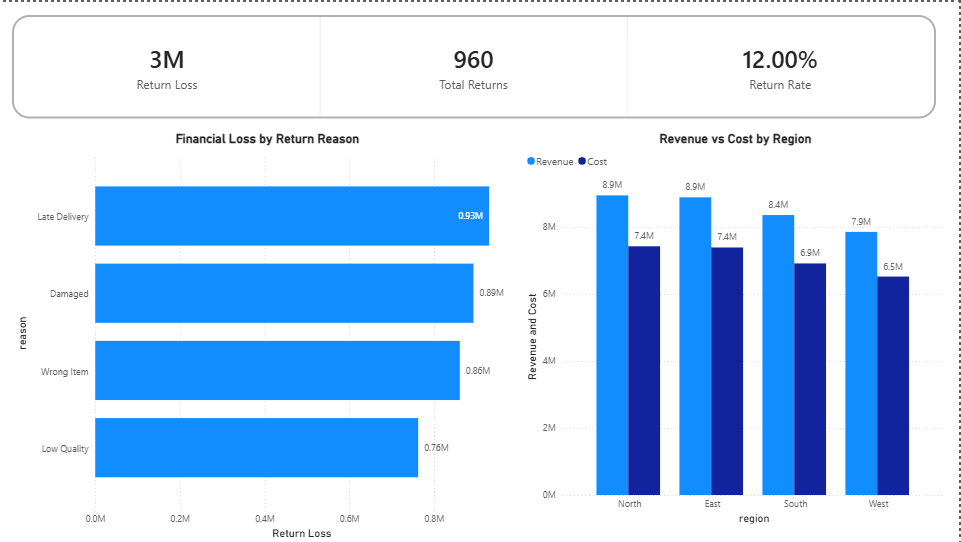

This screenshot's page, from the dashboard's own definition file:
{"tool":"powerbi","page":{"name":"Operational Analysis","canvas":[1280,720],"ordinal":2},"visuals":[{"type":"clusteredBarChart","title":"Financial Loss by Return Reason","fields":{"Category":["returns.reason"],"Y":["customers (1).Return Loss"]},"box":[18,172,680,548],"z":0},{"type":"cardVisual","fields":{"Data":["customers (1).Return Loss","customers (1).Total Returns","customers (1).Return Rate"]},"box":[0,0,1266,172],"z":1000},{"type":"clusteredColumnChart","title":"Revenue vs Cost by Region","fields":{"Category":["customers (1).region"],"Y":["customers (1).Revenue","customers (1).Cost"]},"box":[698,172,568,528],"z":3000}]}

Visuals, with their boxes in screenshot pixels (x1, y1, x2, y2), scaled from the page's 1280x720 canvas onto the 961x542 screenshot:
"Financial Loss by Return Reason" clusteredBarChart: [14, 129, 524, 541]
cardVisual - customers (1).Return Loss x customers (1).Total Returns: [0, 0, 950, 129]
"Revenue vs Cost by Region" clusteredColumnChart: [524, 129, 950, 527]
